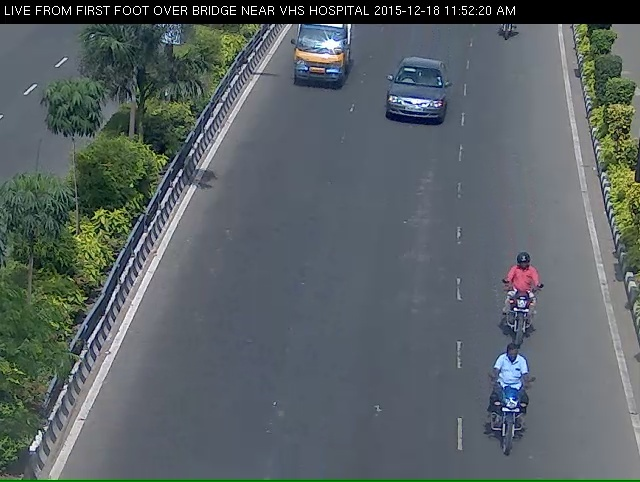Auto: (287, 25, 351, 96)
Car: (390, 65, 445, 129)
Person: (486, 367, 540, 477), (498, 266, 541, 355)
